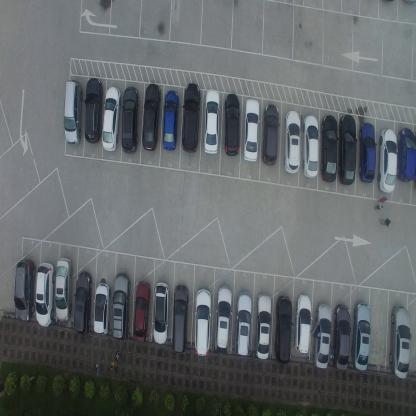car: (389, 304, 411, 378), (349, 302, 371, 372), (181, 82, 201, 154), (14, 257, 36, 322), (331, 302, 351, 372), (312, 301, 332, 370), (84, 77, 104, 145), (214, 284, 233, 354), (338, 113, 356, 186), (253, 292, 272, 361), (377, 127, 397, 192), (34, 262, 54, 327), (320, 113, 338, 184), (234, 292, 253, 359), (121, 85, 139, 155), (274, 294, 292, 364), (112, 271, 130, 341), (63, 78, 82, 144), (54, 256, 73, 322), (142, 82, 160, 151), (102, 85, 120, 152), (74, 270, 92, 337), (132, 280, 151, 343), (194, 288, 211, 358), (203, 87, 220, 156), (283, 109, 301, 174), (242, 98, 260, 162), (396, 126, 416, 183), (172, 284, 188, 355), (262, 103, 280, 166), (358, 121, 376, 184), (152, 282, 170, 345), (223, 91, 240, 157), (293, 293, 311, 355), (302, 112, 318, 180), (162, 88, 178, 152), (93, 282, 110, 334)
